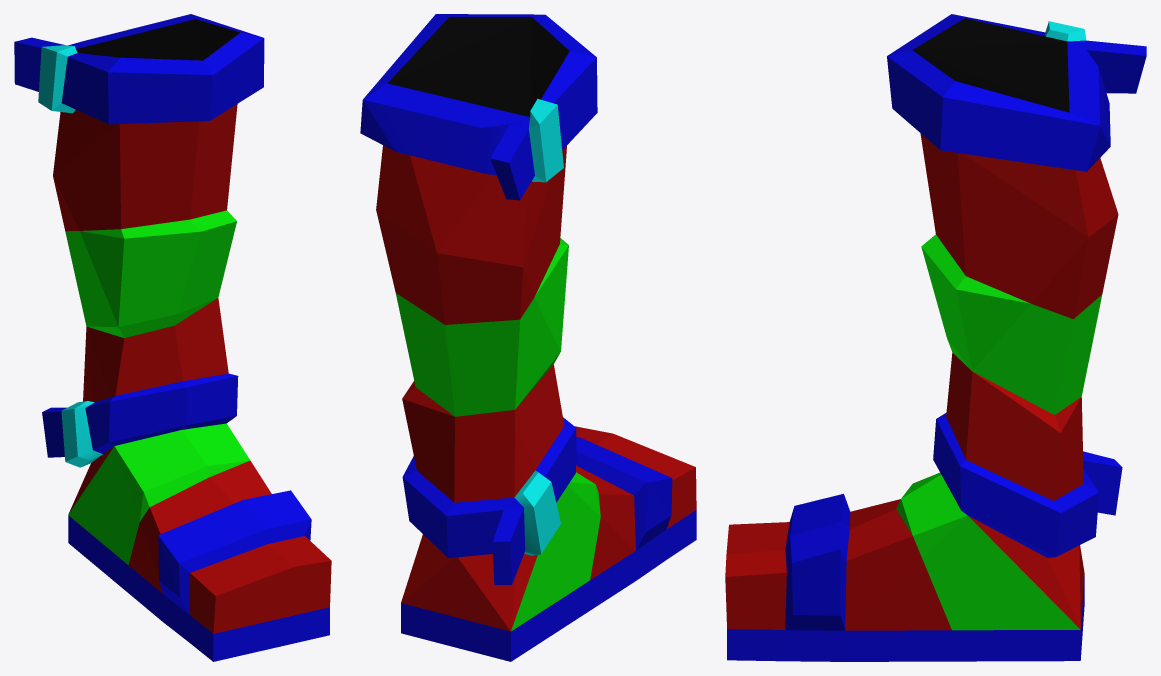
Rendered from Chr_LegLeft_Male_Static_17.fbx.
3 renders of one model, left to right at view 1: azimuth 30°, elevation 25°; view 2: azimuth 150°, elevation 25°; view 3: azimuth 270°, elevation 25°, orthographic. The views are drawn at different scales.
Visible parts, largest first — view 1: Chr_LegLeft_Male_17; view 2: Chr_LegLeft_Male_17; view 3: Chr_LegLeft_Male_17.
Part boxes in pixels (x1,y1,x2,y2): Chr_LegLeft_Male_17: (14,14,331,661); Chr_LegLeft_Male_17: (360,14,696,661); Chr_LegLeft_Male_17: (725,14,1146,661).
Size of the model in its own units: 13.75 by 40.4 by 26.32.
